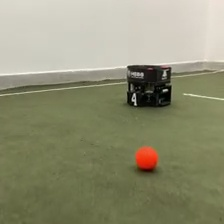ball: (134, 144, 158, 172)
robot: (125, 63, 173, 107)
